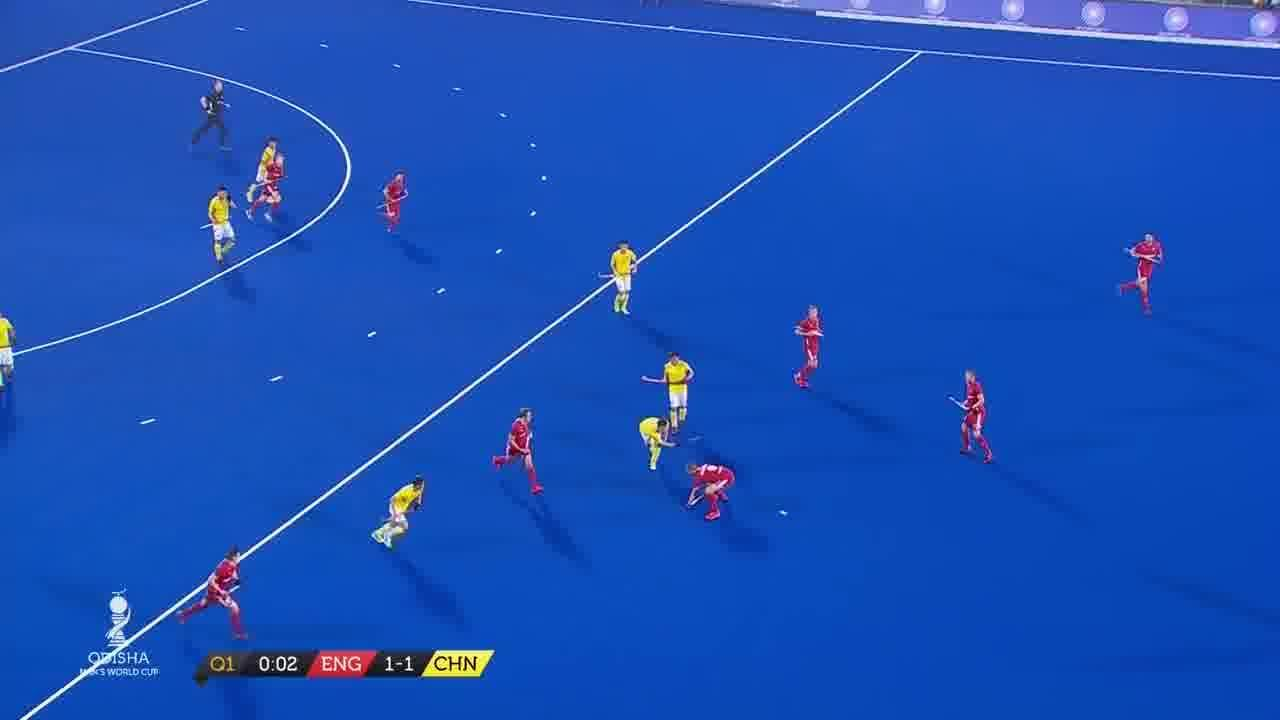ball: (778, 512, 790, 522)
